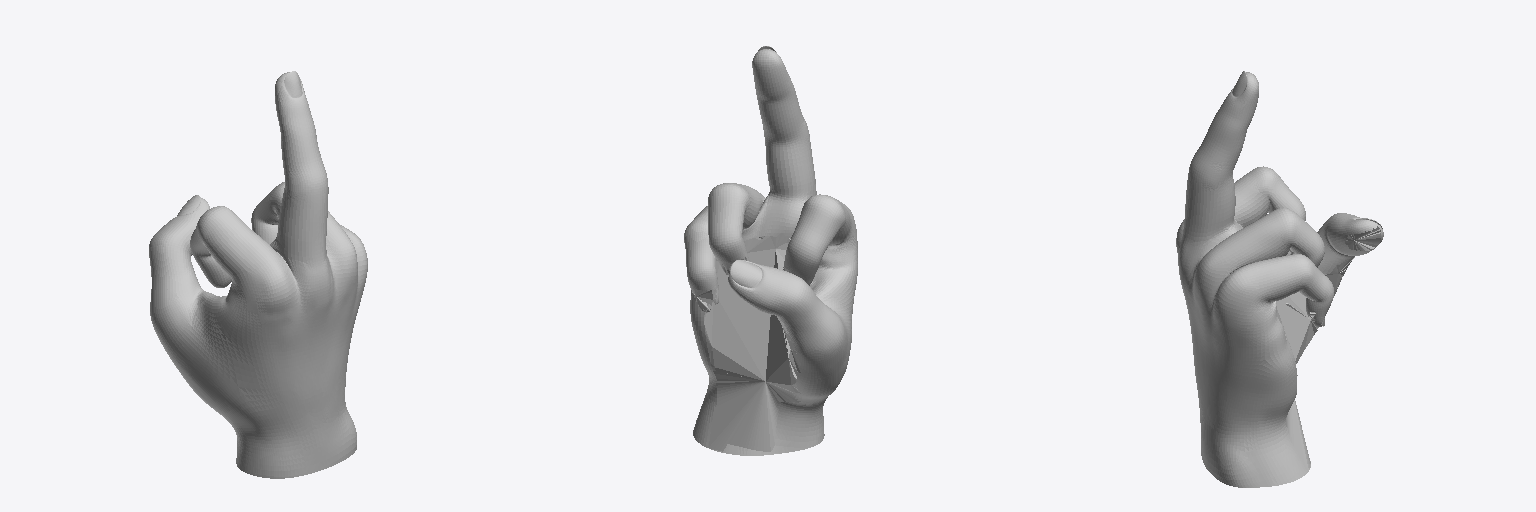
The model's file is middlefinger.obj.
The picture shows the model from 3 angles: view 1: azimuth 30°, elevation 25°; view 2: azimuth 150°, elevation 25°; view 3: azimuth 270°, elevation 25°; orthographic projection.
Visible parts, largest first — view 1: The_Finger_Ring_Holder; view 2: The_Finger_Ring_Holder; view 3: The_Finger_Ring_Holder.
Boxes of the visible parts, <box> form: The_Finger_Ring_Holder: <box>149,71,367,478</box>; The_Finger_Ring_Holder: <box>684,46,857,455</box>; The_Finger_Ring_Holder: <box>1176,71,1383,487</box>.
Size of the model in its own units: 36.94 by 78.1 by 38.12.